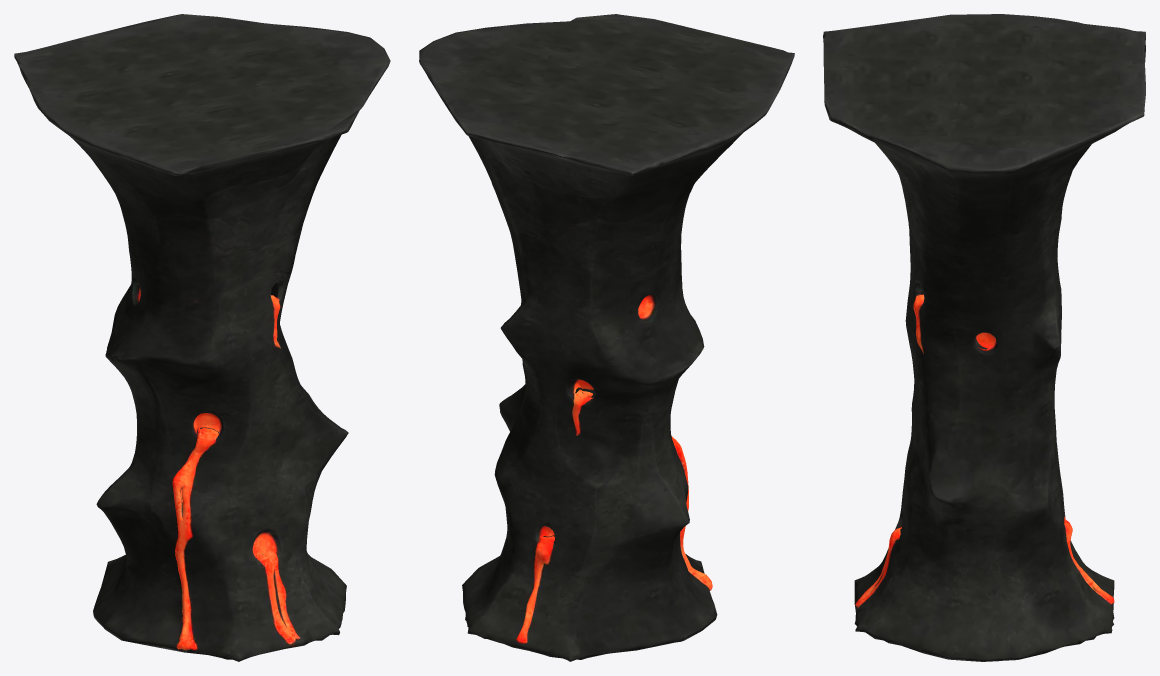
3 renders of one model, left to right at view 1: azimuth 30°, elevation 25°; view 2: azimuth 150°, elevation 25°; view 3: azimuth 270°, elevation 25°, orthographic.
Parts seen in each view (by area): view 1: SM_US_FightCavePillar_LOD0; view 2: SM_US_FightCavePillar_LOD0; view 3: SM_US_FightCavePillar_LOD0.
Boxes of the visible parts, box(x1,y1,x2,y2) form: SM_US_FightCavePillar_LOD0: box(14, 14, 390, 661); SM_US_FightCavePillar_LOD0: box(419, 14, 794, 661); SM_US_FightCavePillar_LOD0: box(823, 14, 1145, 661).
Bounding box in the file's own units: 21.95 × 33.75 × 19.13.
1 material, 1 textured.
